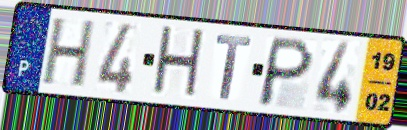4: (313, 38, 356, 117), (96, 21, 136, 95)
H: (149, 23, 207, 103), (39, 17, 99, 91)
P: (254, 34, 317, 109)
T: (214, 33, 254, 102)
